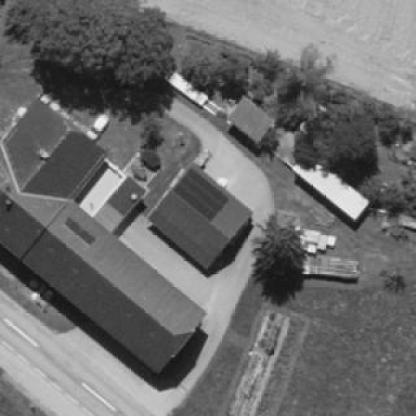solar-pv-panel: (173, 168, 230, 222), (64, 218, 96, 247)
